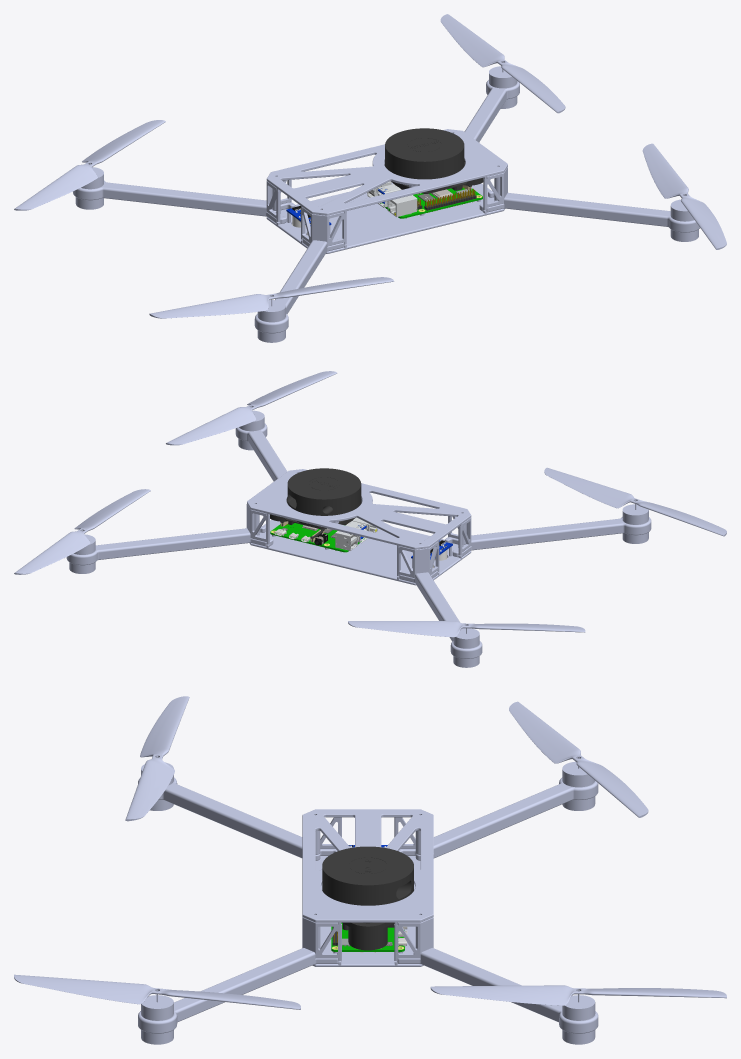
File: site_model.gltf
The picture shows the model from 3 angles, top to bottom: view 1: azimuth 30°, elevation 25°; view 2: azimuth 150°, elevation 25°; view 3: azimuth 270°, elevation 25°; orthographic projection. The views are drawn at different scales.
Visible parts, largest first — view 1: Chassis - Top Plate-2, Chassis - Bottom Plate-1, 360 LiDAR sensor-1, Motor Arm 1-2, Motor Arm 1-1, Motor Arm 1-4, Propeller Blade-4, Propeller Blade-7, Propeller Blade-6, Motor Arm 1-3, Propeller Blade-2, Column-2 (+12 smaller); view 2: Chassis - Top Plate-2, Chassis - Bottom Plate-1, 360 LiDAR sensor-1, Motor Arm 1-4, Motor Arm 1-3, Motor Arm 1-2, Propeller Blade-5, Propeller Blade-8, Propeller Blade-2, Propeller Blade-6, Motor Arm 1-1, Column-4 (+9 smaller); view 3: Chassis - Top Plate-2, 360 LiDAR sensor-1, Motor Arm 1-2, Motor Arm 1-1, Motor Arm 1-4, Motor Arm 1-3, Propeller Blade-3, Propeller Blade-1, Propeller Blade-7, Chassis - Bottom Plate-1, Propeller Blade-8, Propeller Blade-4 (+9 smaller).
Boxes of the visible parts, bbox=[...] form: Chassis - Top Plate-2: bbox=[266, 129, 507, 215]; Chassis - Bottom Plate-1: bbox=[266, 182, 504, 253]; 360 LiDAR sensor-1: bbox=[384, 128, 483, 193]; Motor Arm 1-2: bbox=[73, 180, 295, 223]; Motor Arm 1-1: bbox=[479, 190, 699, 232]; Motor Arm 1-4: bbox=[254, 235, 344, 333]; Propeller Blade-4: bbox=[149, 294, 274, 318]; Propeller Blade-7: bbox=[14, 162, 97, 210]; Propeller Blade-6: bbox=[440, 14, 506, 67]; Motor Arm 1-3: bbox=[464, 80, 519, 142]; Propeller Blade-2: bbox=[642, 143, 688, 198]; Column-2: bbox=[301, 207, 346, 246]; Chassis - Top Plate-2: bbox=[247, 469, 471, 549]; Chassis - Bottom Plate-1: bbox=[249, 519, 471, 585]; 360 LiDAR sensor-1: bbox=[270, 468, 361, 529]; Motor Arm 1-4: bbox=[444, 517, 651, 557]; Motor Arm 1-3: bbox=[66, 526, 273, 565]; Motor Arm 1-2: bbox=[399, 568, 482, 658]; Propeller Blade-5: bbox=[348, 621, 469, 637]; Propeller Blade-8: bbox=[544, 467, 638, 508]; Propeller Blade-2: bbox=[166, 405, 256, 445]; Propeller Blade-6: bbox=[14, 529, 90, 574]; Motor Arm 1-1: bbox=[235, 423, 287, 481]; Column-4: bbox=[397, 542, 439, 578]; Chassis - Top Plate-2: bbox=[302, 809, 433, 925]; 360 LiDAR sensor-1: bbox=[322, 846, 413, 950]; Motor Arm 1-2: bbox=[399, 777, 598, 860]; Motor Arm 1-1: bbox=[138, 948, 341, 1033]; Motor Arm 1-4: bbox=[138, 777, 337, 860]; Motor Arm 1-3: bbox=[397, 948, 598, 1033]; Propeller Blade-3: bbox=[430, 985, 581, 1005]; Propeller Blade-1: bbox=[14, 974, 161, 1004]; Propeller Blade-7: bbox=[509, 701, 582, 763]; Chassis - Bottom Plate-1: bbox=[312, 856, 423, 966]; Propeller Blade-8: bbox=[125, 755, 174, 821]; Propeller Blade-4: bbox=[140, 696, 189, 757].
Size of the model in its own units: 0.5628 by 0.069 by 0.543.
